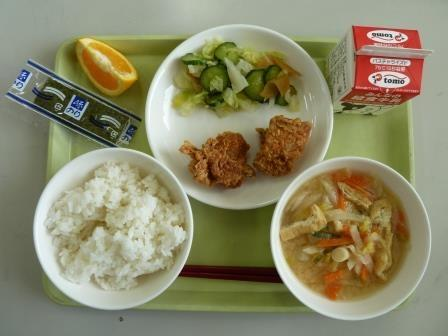Citrus: (66, 33, 144, 93)
Milk: (333, 19, 434, 120)
Rice: (44, 157, 191, 298)
Salad: (173, 39, 302, 113)
vegetable soup: (278, 168, 420, 302)
wings: (176, 112, 307, 194)
